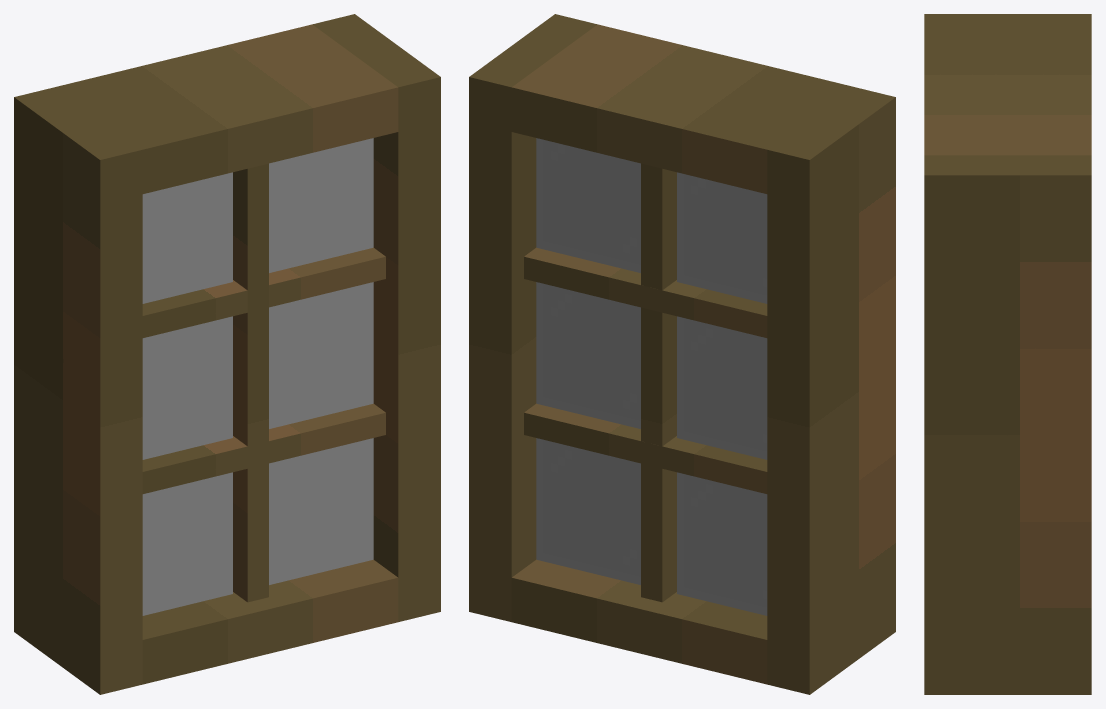
File: study_window.gltf
3 views of the same model, side by side, from view 1: azimuth 30°, elevation 25°; view 2: azimuth 150°, elevation 25°; view 3: azimuth 270°, elevation 25° (orthographic). The views are drawn at different scales.
Visible parts, largest first — view 1: cube (×9), glass (×6); view 2: cube (×9), glass (×6); view 3: cube (×5).
Part boxes in pixels (box(x1,y1,x2,y2)): cube (×9): box(14, 14, 440, 694); glass (×6): box(142, 138, 373, 615); cube (×9): box(469, 14, 895, 694); glass (×6): box(536, 138, 767, 615); cube (×5): box(924, 14, 1091, 694).
Size of the model in its own units: 0.25 by 0.375 by 0.1094.
2 materials, 2 textured.
